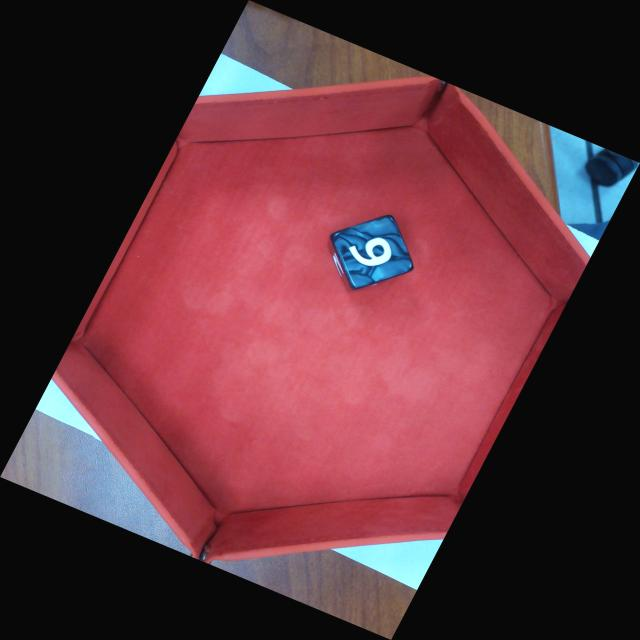dice: (331, 215, 414, 290)
